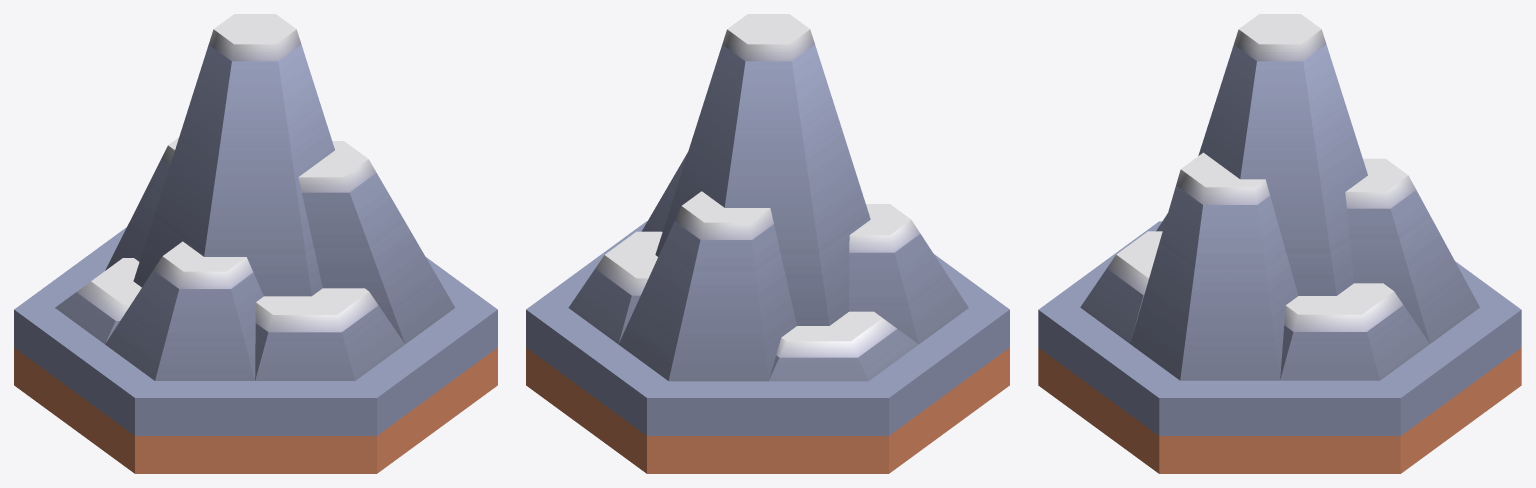
The model's file is stone-mountain.fbx.
3 renders of one model, left to right at view 1: azimuth 30°, elevation 25°; view 2: azimuth 150°, elevation 25°; view 3: azimuth 270°, elevation 25°, orthographic.
Parts seen in each view (by area): view 1: stone_mountain; view 2: stone_mountain; view 3: stone_mountain.
Boxes of the visible parts, bbox=[...] form: stone_mountain: bbox=[14, 14, 497, 473]; stone_mountain: bbox=[526, 14, 1009, 473]; stone_mountain: bbox=[1038, 14, 1521, 473].
Size of the model in its own units: 100 by 93.87 by 115.
1 material, 1 textured.
